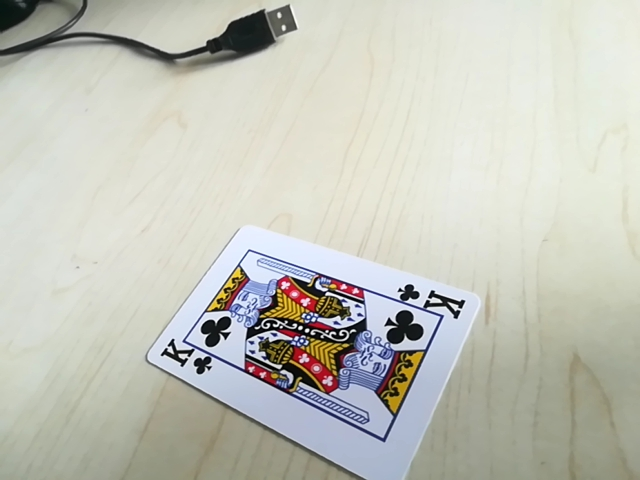mh k: (390, 281, 470, 317), (155, 348, 219, 379)
